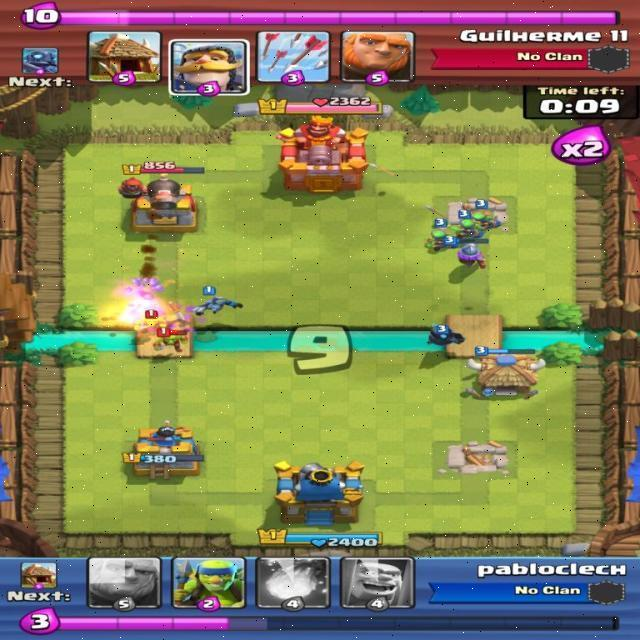ECannoneerTower: (131, 185, 196, 231)
EGoblin: (154, 331, 188, 355), (136, 309, 165, 334)
EKingTower: (278, 126, 372, 195)
OGoblinHut: (472, 349, 536, 401)
OMiniPekka: (425, 319, 470, 356)
OMusk: (456, 242, 488, 269)
OSpearGoblin: (433, 227, 452, 253), (457, 215, 475, 238), (474, 213, 498, 227)
OwnKingTower: (274, 467, 371, 531)
OwnPrincessTower: (129, 428, 196, 479)
TowerDown: (436, 192, 518, 235), (432, 441, 516, 481)
ominion: (190, 294, 243, 325)
